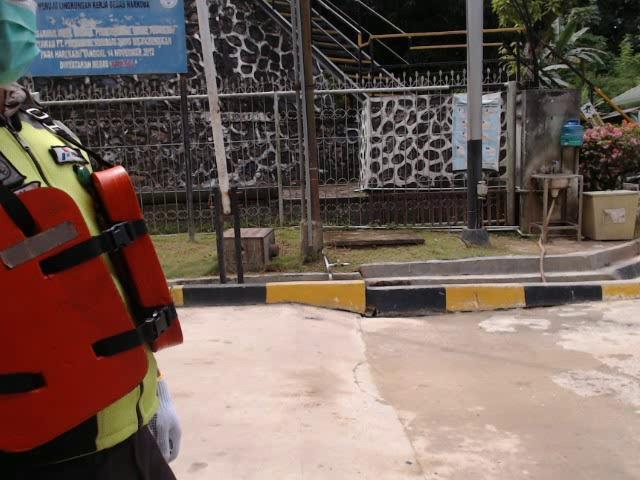vest: (4, 163, 189, 463)
